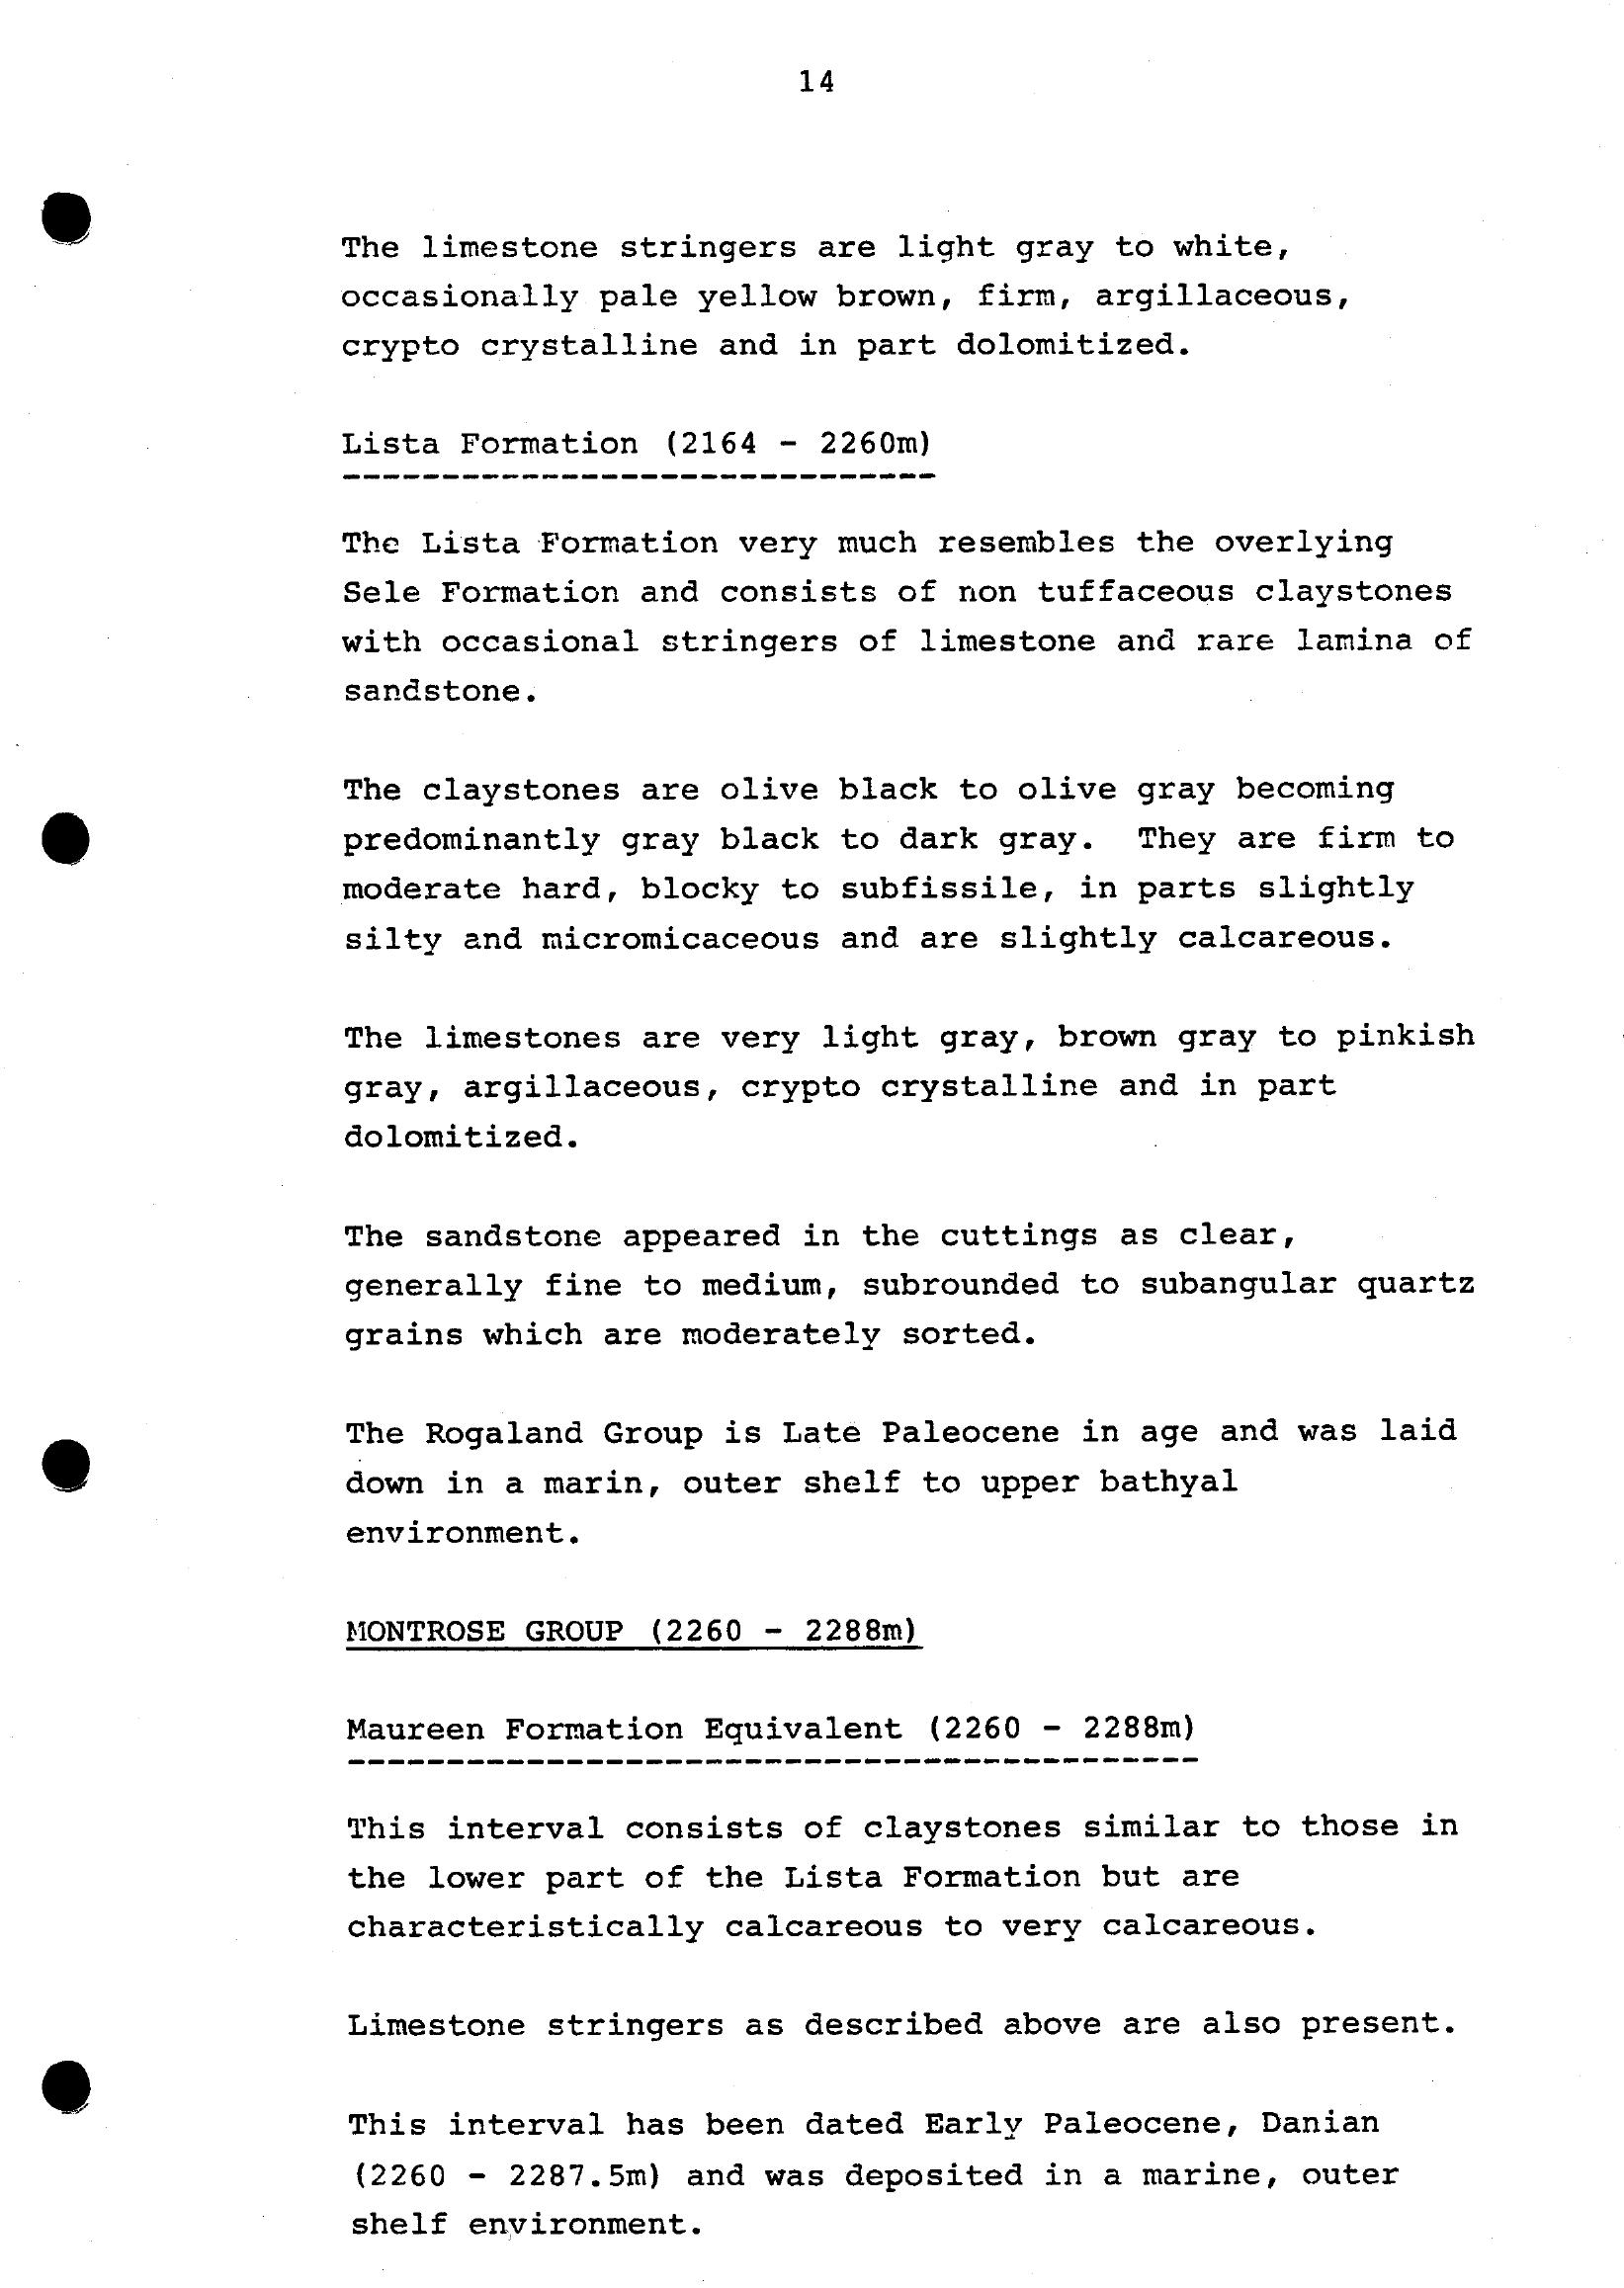text: (292, 188, 1522, 2270)
